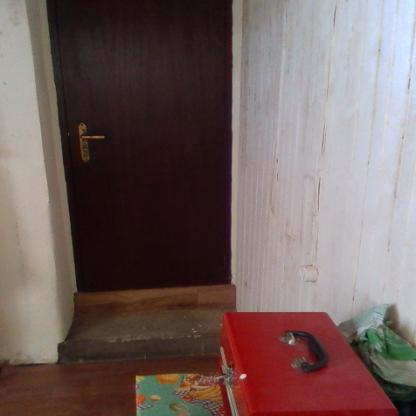door: (49, 0, 231, 287)
lever: (82, 135, 108, 140)
